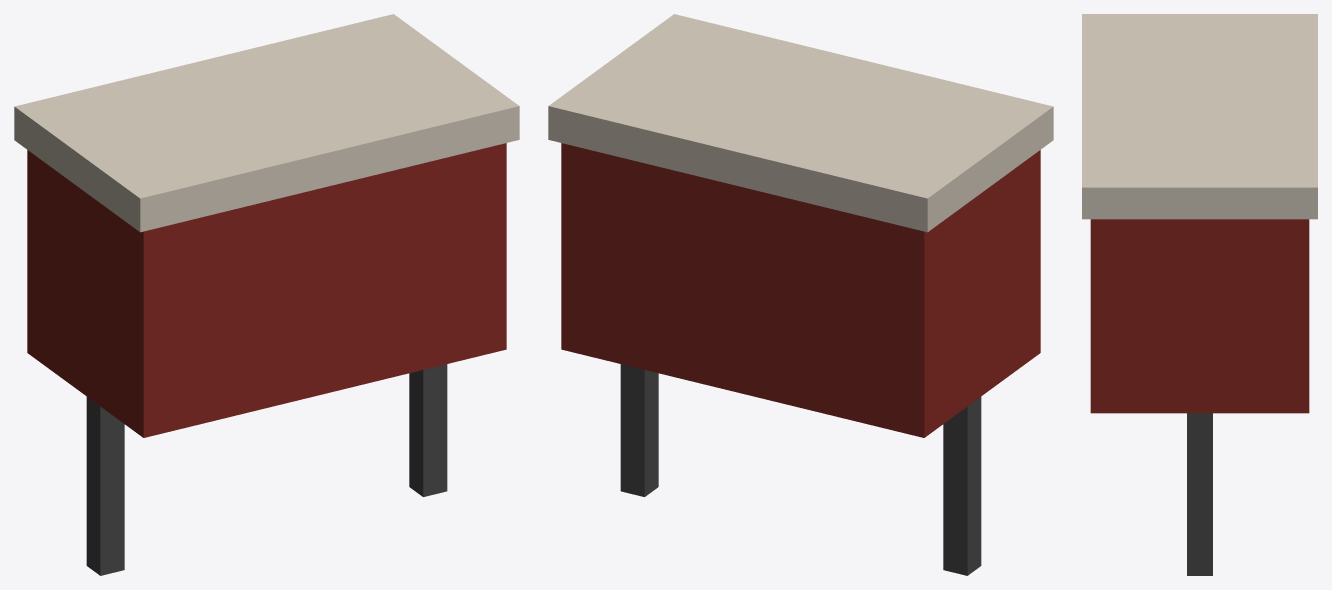
The model's file is beer-cooler.glb.
The picture shows the model from 3 angles, left to right: view 1: azimuth 30°, elevation 25°; view 2: azimuth 150°, elevation 25°; view 3: azimuth 270°, elevation 25°; orthographic projection. The views are drawn at different scales.
Parts seen in each view (by area): view 1: beer-cooler; view 2: beer-cooler; view 3: beer-cooler.
Boxes of the visible parts, x1=… form: beer-cooler: x1=14, y1=14, x2=519, y2=575; beer-cooler: x1=548, y1=14, x2=1053, y2=575; beer-cooler: x1=1082, y1=14, x2=1317, y2=575.
Size of the model in its own units: 0.94 by 1 by 0.54.
